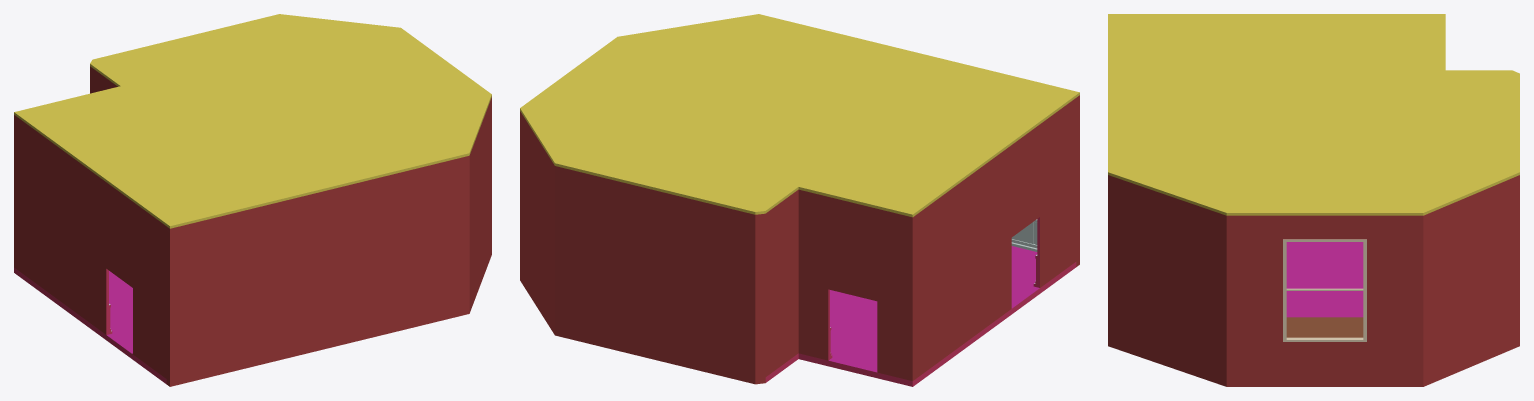
File: ChildNurseryRoom.fbx
3 views of the same model, side by side, from view 1: azimuth 30°, elevation 25°; view 2: azimuth 150°, elevation 25°; view 3: azimuth 270°, elevation 25° (orthographic). The views are drawn at different scales.
Visible parts, largest first — view 1: polySurface24; view 2: polySurface24; view 3: polySurface24.
Part boxes in pixels (x1,y1,x2,y2): polySurface24: [14, 14, 491, 386]; polySurface24: [520, 14, 1079, 386]; polySurface24: [1108, 14, 1519, 386].
Size of the model in its own units: 23.27 by 9.47 by 20.3.
